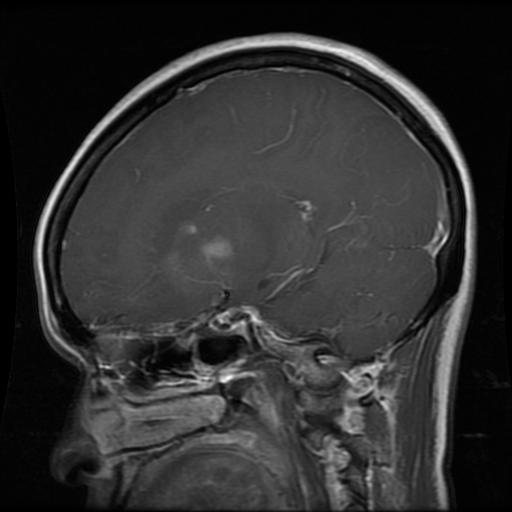Gliomia_tumour: (202, 237, 238, 266)
